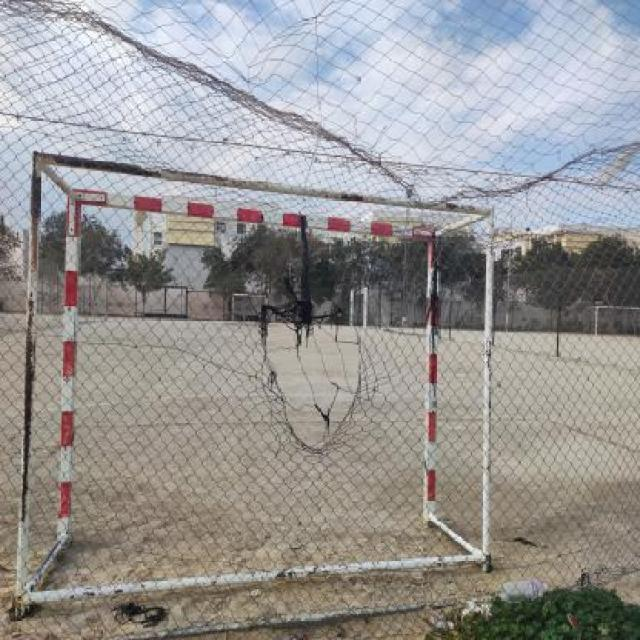fence line: (262, 279, 376, 447)
